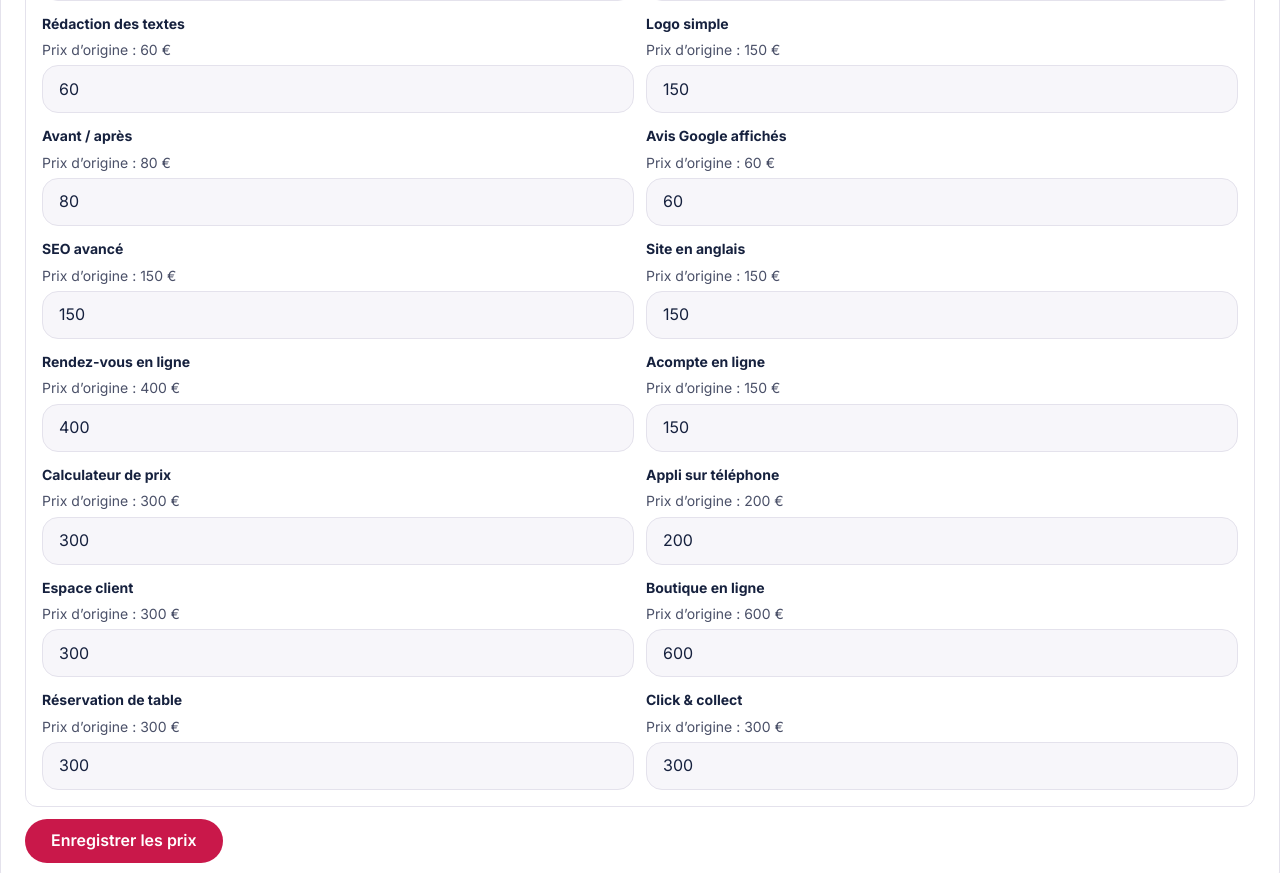
Scenario: Back-office : prix › signale un refus de l’API
This screenshot has width=1280, height=873.
(page scrolled)
Click the button "Enregistrer les prix": {"x": 124, "y": 841} [25,819,223,863]
(page scrolled)
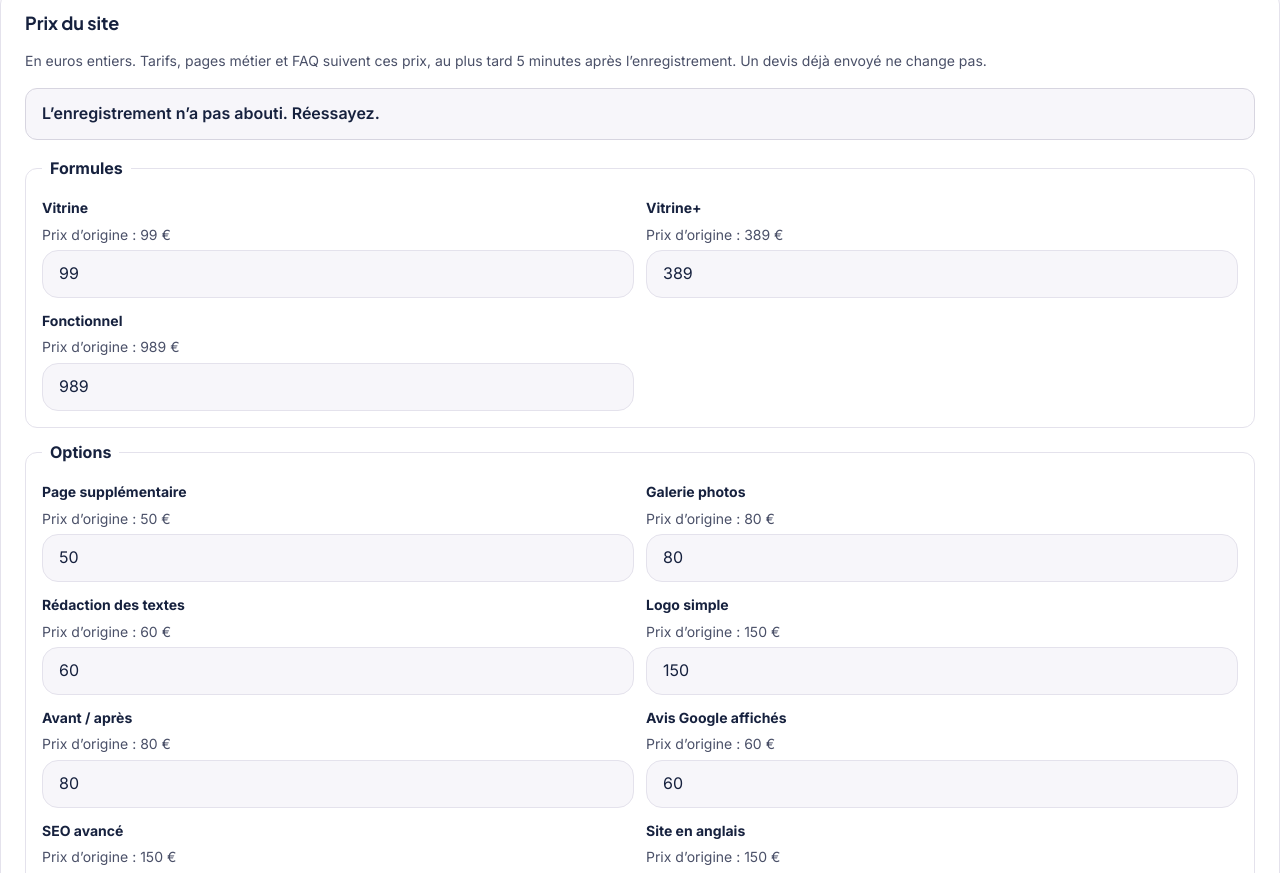
Result: the message shows "pas abouti" at [42,103,380,123]
